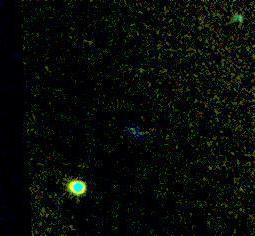star: (233, 34, 255, 64)
